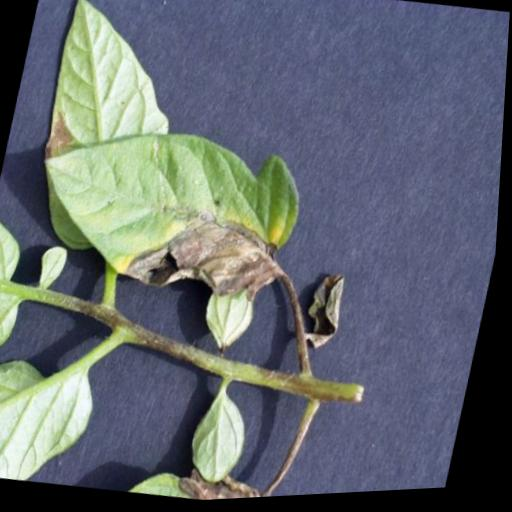Late Blight: (7, 105, 325, 365)
